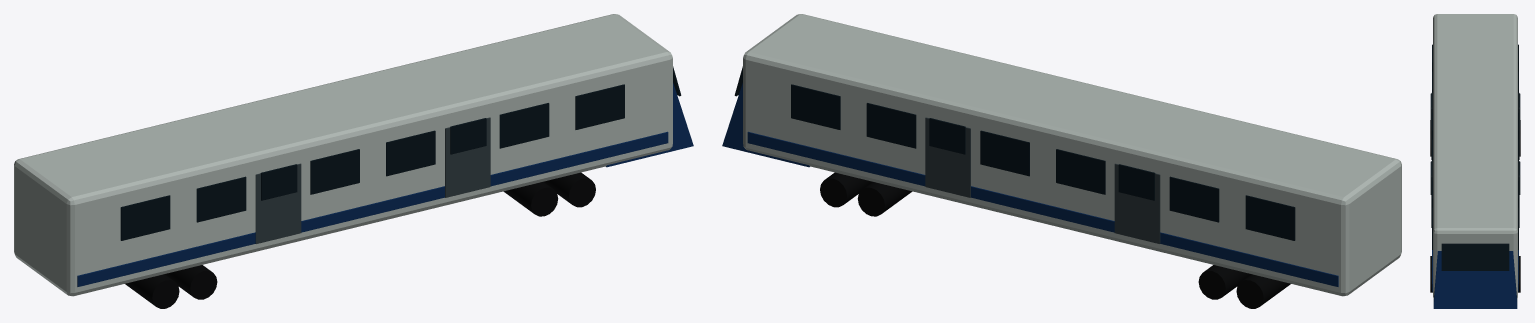
Rendered from Train.fbx.
3 renders of one model, left to right at view 1: azimuth 30°, elevation 25°; view 2: azimuth 150°, elevation 25°; view 3: azimuth 270°, elevation 25°, orthographic. The views are drawn at different scales.
Visible parts, largest first — view 1: Train; view 2: Train; view 3: Train.
Boxes of the visible parts, <box> form: Train: <box>14,14,693,308</box>; Train: <box>722,14,1401,308</box>; Train: <box>1430,14,1520,308</box>.
Size of the model in its own units: 1650 by 280 by 328.
